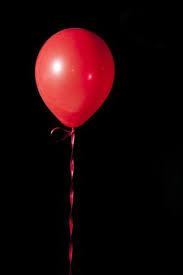red: (34, 26, 116, 130)
